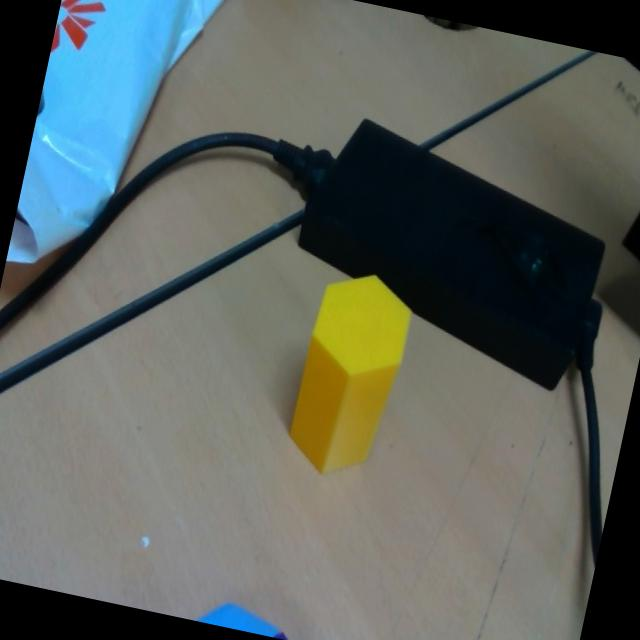hexagon: (291, 275, 411, 471)
